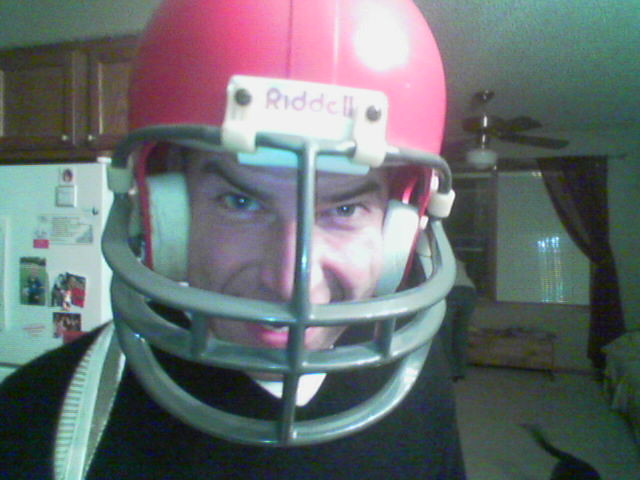helmet: (124, 5, 441, 422)
